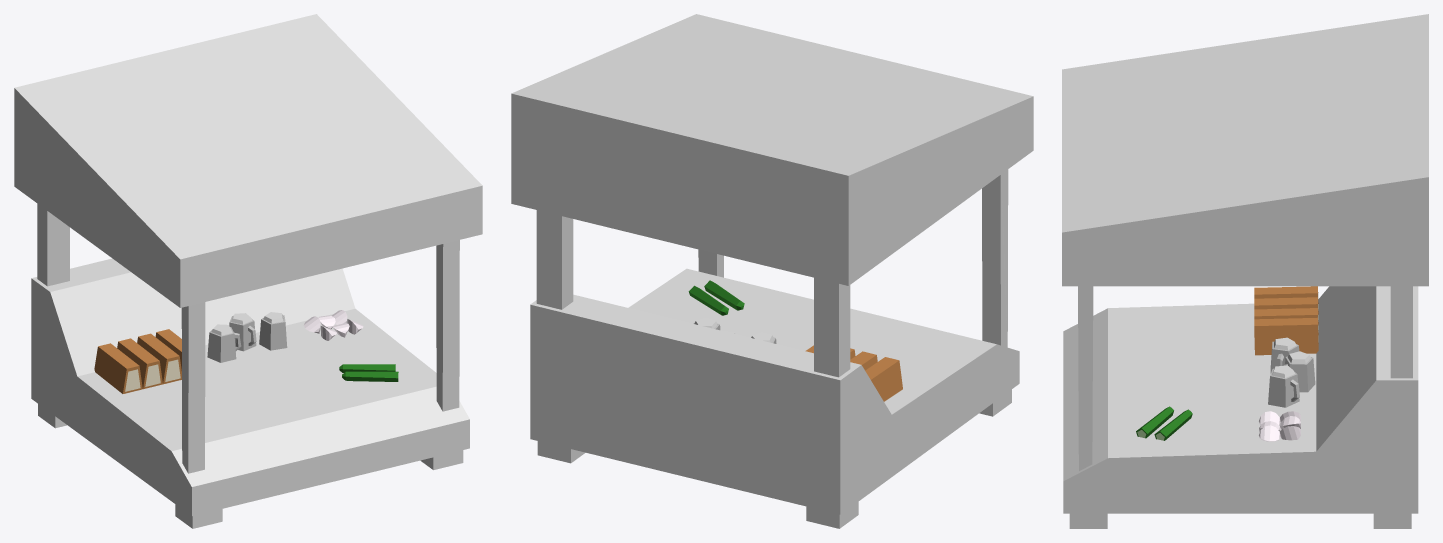
Rendered from Shop.fbx.
3 views of the same model, side by side, from view 1: azimuth 30°, elevation 25°; view 2: azimuth 150°, elevation 25°; view 3: azimuth 270°, elevation 25° (orthographic). The views are drawn at different scales.
Visible parts, largest first — view 1: Cube, Bread, Bread.001, Bread.002, GlassFull, GlassFull.002, GlassFull.001, Cucumber; view 2: Cube, Bread; view 3: Cube, Bread.003, GlassFull.002, GlassFull.001, Bread, Bread.001, Bread.002, GlassFull, Cucumber, Cucumber.001.
Boxes of the visible parts, left/top/right/bottom form: Cube: left=14, top=14, right=482, bottom=528; Bread: left=94, top=343, right=142, bottom=393; Bread.001: left=117, top=338, right=162, bottom=389; Bread.002: left=137, top=333, right=181, bottom=384; GlassFull: left=207, top=324, right=241, bottom=362; GlassFull.002: left=259, top=312, right=287, bottom=350; GlassFull.001: left=229, top=313, right=256, bottom=351; Cucumber: left=342, top=371, right=398, bottom=381; Cube: left=511, top=14, right=1033, bottom=528; Bread: left=865, top=357, right=902, bottom=401; Cube: left=1062, top=14, right=1428, bottom=528; Bread.003: left=1254, top=317, right=1318, bottom=355; GlassFull.002: left=1268, top=365, right=1299, bottom=407; GlassFull.001: left=1282, top=351, right=1315, bottom=392; Bread: left=1254, top=286, right=1318, bottom=313; Bread.001: left=1254, top=297, right=1318, bottom=323; Bread.002: left=1254, top=308, right=1318, bottom=333; GlassFull: left=1270, top=337, right=1299, bottom=373; Cucumber: left=1136, top=406, right=1173, bottom=438; Cucumber.001: left=1154, top=409, right=1192, bottom=440.
Size of the model in its own units: 217 by 224 by 207.
